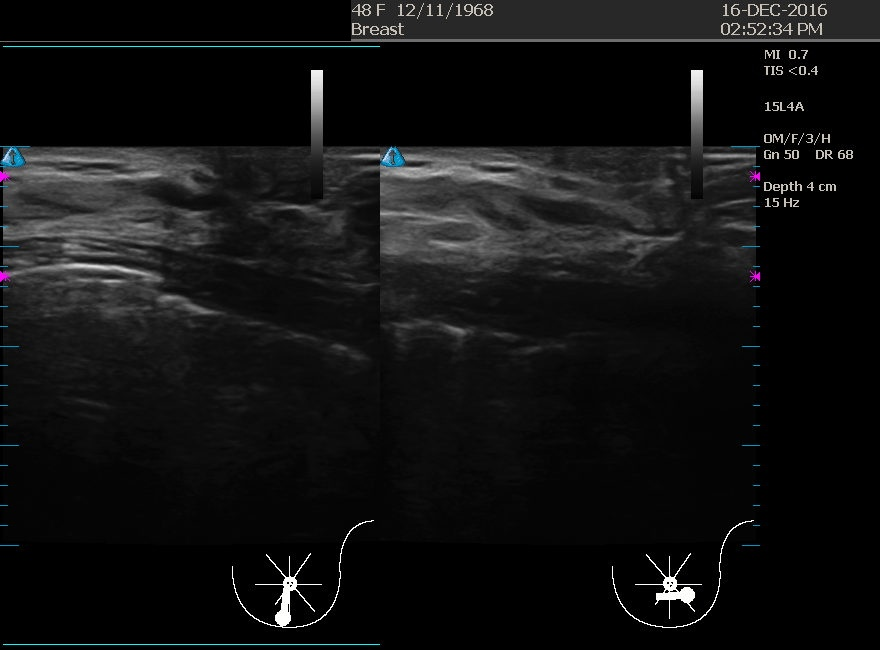BIRADS_2: (41, 151, 241, 351), (454, 184, 654, 384)
